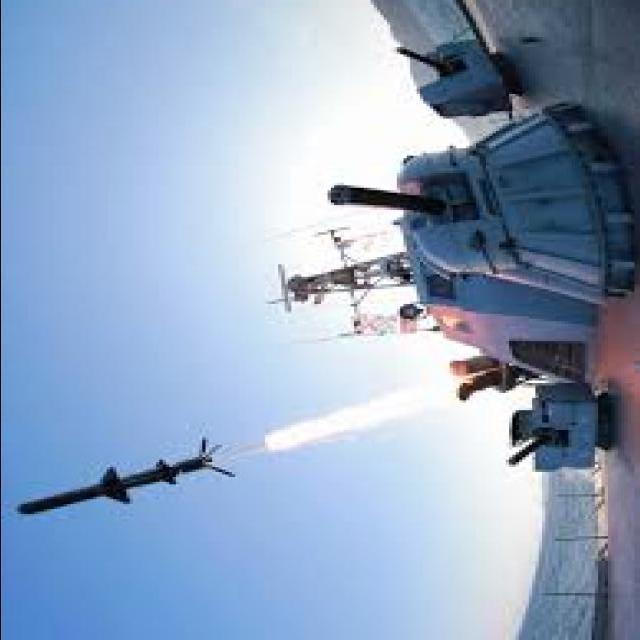missile: (20, 433, 236, 526)
